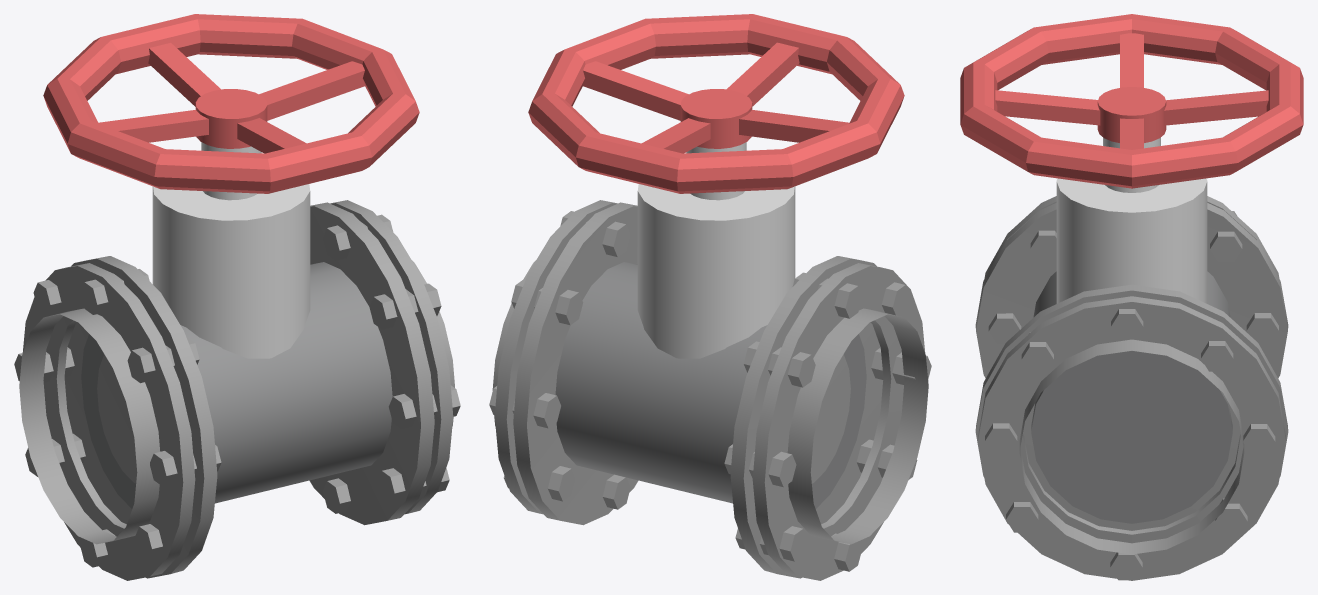
File: 总水阀.fbx
The picture shows the model from 3 angles, left to right: view 1: azimuth 30°, elevation 25°; view 2: azimuth 150°, elevation 25°; view 3: azimuth 270°, elevation 25°; orthographic projection. The views are drawn at different scales.
Visible parts, largest first — view 1: shuifa; view 2: shuifa; view 3: shuifa.
Boxes of the visible parts, x1,y1,x2,y2 form: shuifa: [14, 14, 460, 580]; shuifa: [489, 14, 931, 580]; shuifa: [960, 14, 1303, 580].
Size of the model in its own units: 29.25 by 38.57 by 27.7.
